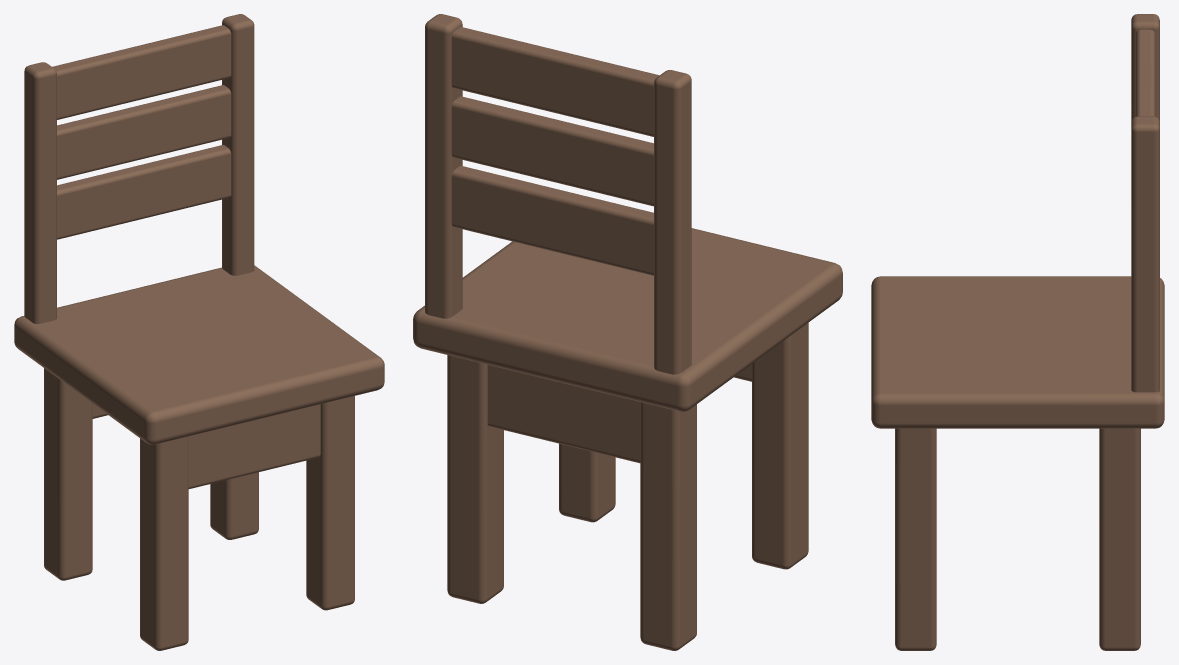
The model's file is paranormal-investigation-house-dining-chair-4ccc0d1f__26726.glb.
3 views of the same model, side by side, from view 1: azimuth 30°, elevation 25°; view 2: azimuth 150°, elevation 25°; view 3: azimuth 270°, elevation 25° (orthographic). The views are drawn at different scales.
Parts seen in each view (by area): view 1: dining-chair; view 2: dining-chair; view 3: dining-chair.
Boxes of the visible parts, x1=… form: dining-chair: x1=14, y1=14, x2=384, y2=650; dining-chair: x1=413, y1=14, x2=842, y2=650; dining-chair: x1=871, y1=14, x2=1164, y2=650.
Size of the model in its own units: 0.4601 by 0.92 by 0.4601.
